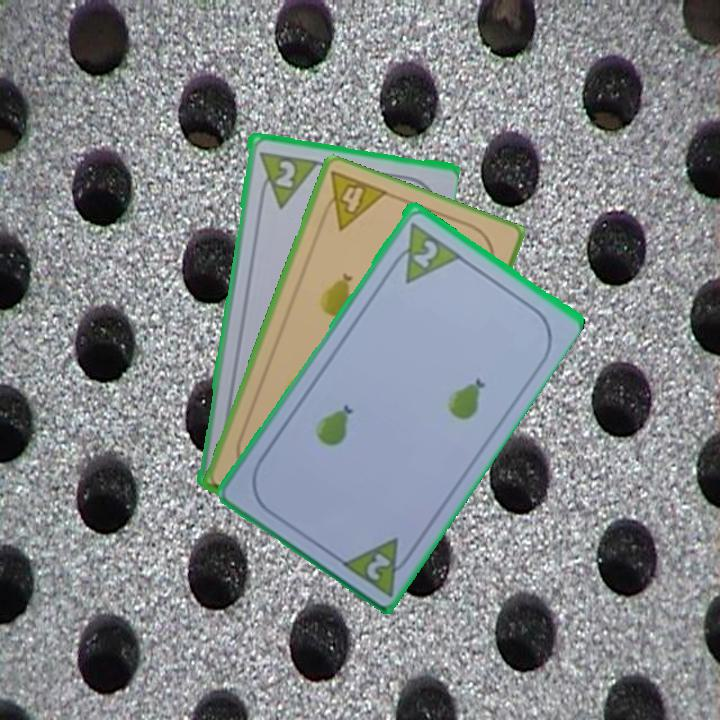2p: (336, 532, 419, 598), (385, 217, 463, 286), (271, 156, 298, 190)
4p: (314, 168, 390, 234)
